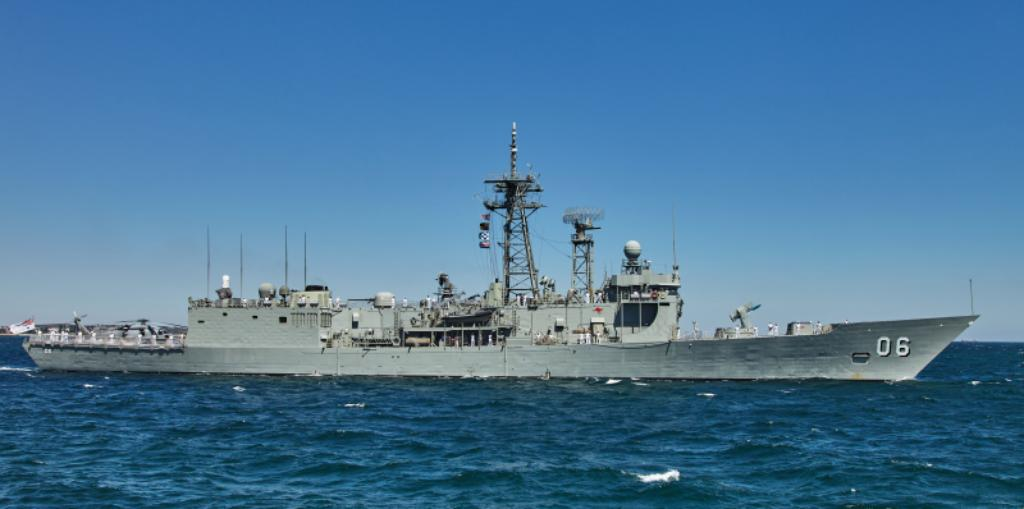Warship: (9, 110, 983, 386)
